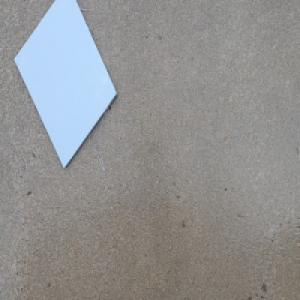PaintChip: (13, 0, 119, 173)
